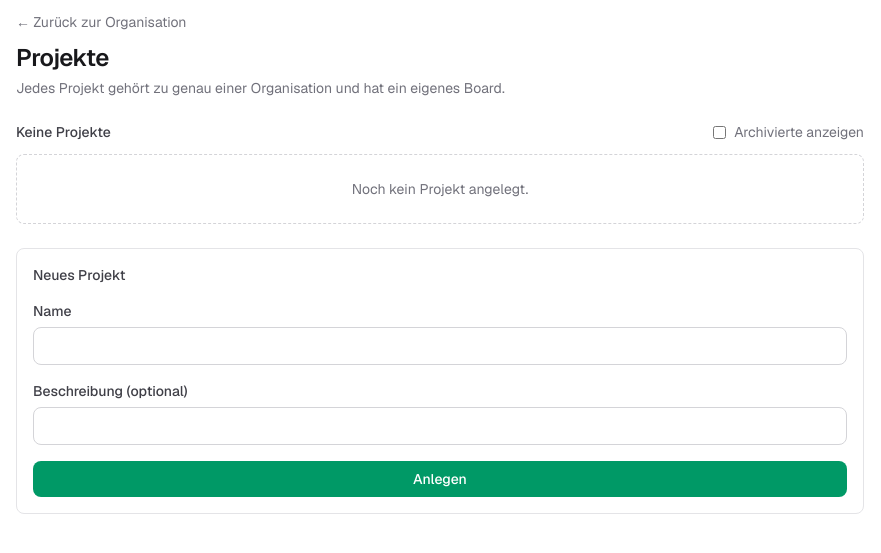
Test: Projektliste › Anlegen › prueft die Mindestlaenge, bevor eine Anfrage laeuft
The image size is (881, 553).
In the field labelled "Name": (440, 346) [33,327,847,365], type "A"
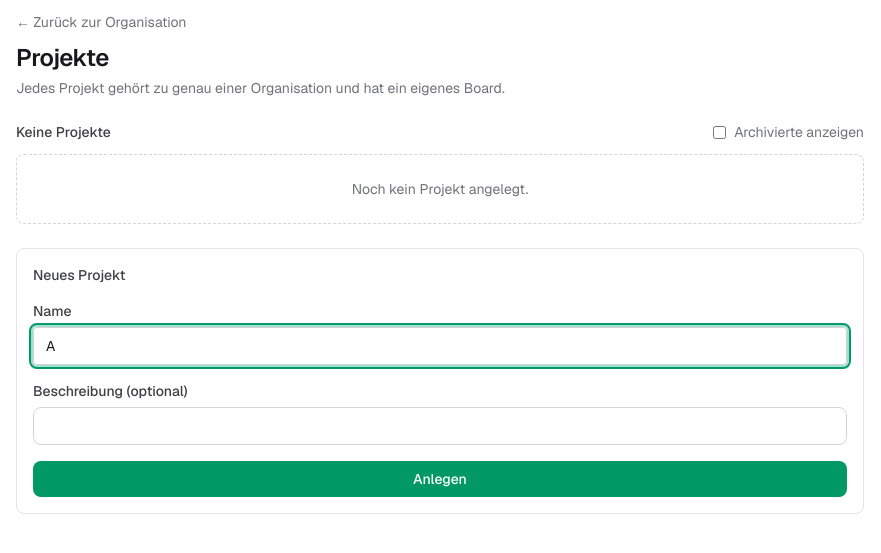
Click the button "Anlegen": (440, 479) [33,461,847,497]
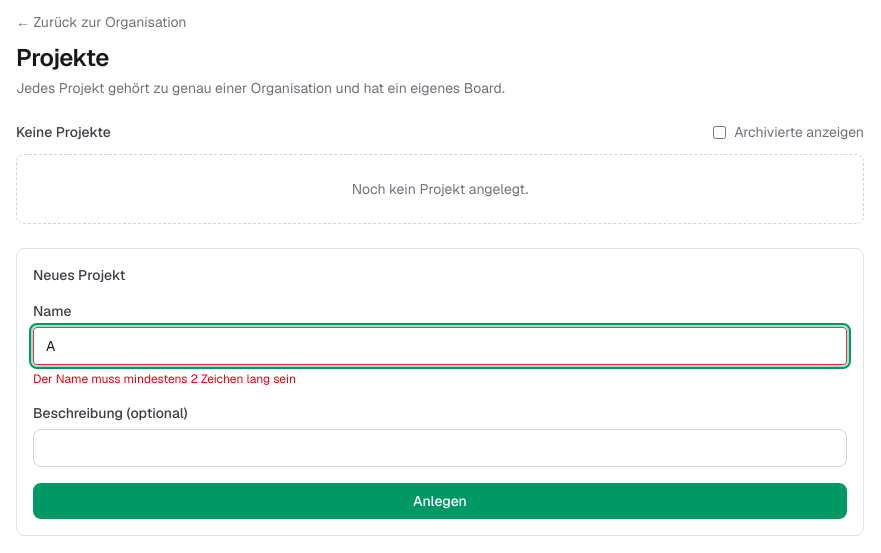
Now the text "Der Name muss mindestens 2 Zeichen lang sein" is shown, box [33,371,296,387]
